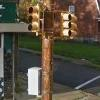traffic lights: (27, 3, 42, 35), (58, 8, 72, 40)
